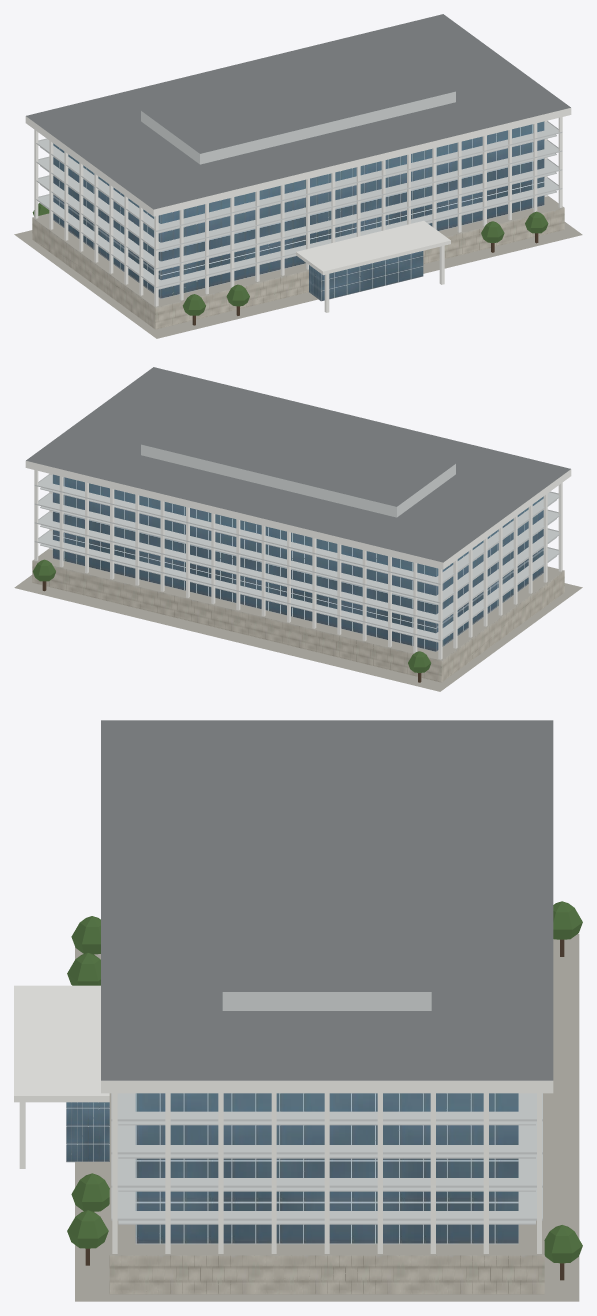
Rendered from kantei.glb.
3 renders of one model, top to bottom at view 1: azimuth 30°, elevation 25°; view 2: azimuth 150°, elevation 25°; view 3: azimuth 270°, elevation 25°, orthographic. The views are drawn at different scales.
Visible parts, largest first — view 1: kantei; view 2: kantei; view 3: kantei.
Boxes of the visible parts, box(x1,y1,x2,y2) form: kantei: box(14, 14, 582, 338); kantei: box(14, 367, 582, 691); kantei: box(14, 720, 582, 1301).
Size of the model in its own units: 100 by 30 by 65.4.
2 materials, 2 textured.
